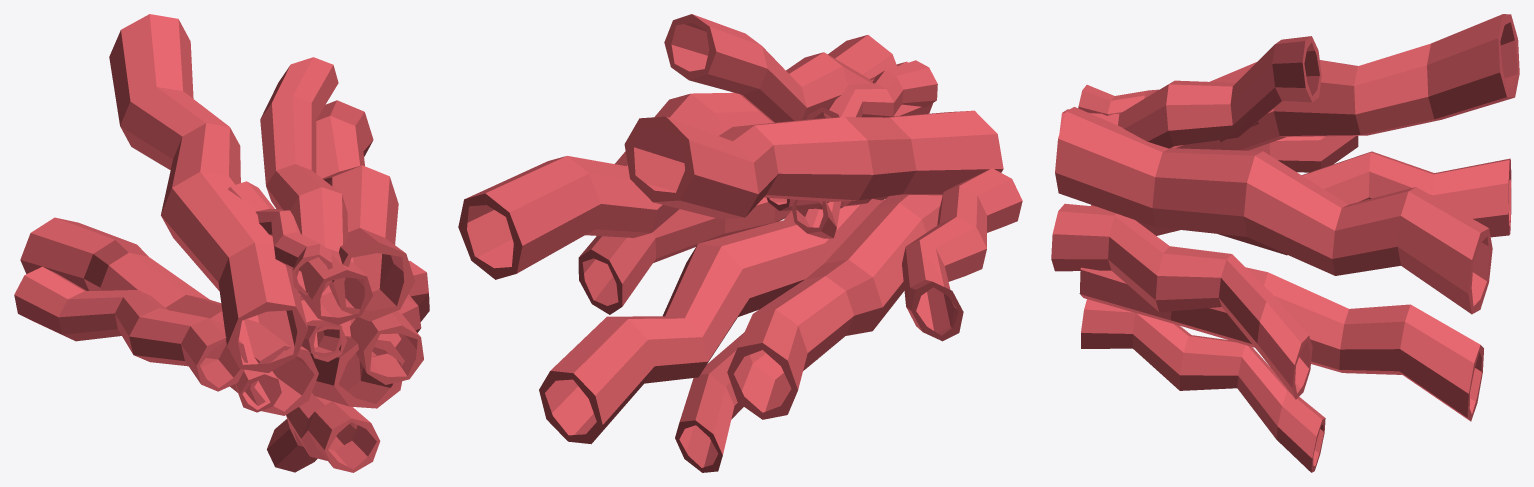
File: coral 3.fbx
The picture shows the model from 3 angles, left to right: view 1: azimuth 30°, elevation 25°; view 2: azimuth 150°, elevation 25°; view 3: azimuth 270°, elevation 25°; orthographic projection. The views are drawn at different scales.
Parts seen in each view (by area): view 1: coral; view 2: coral; view 3: coral.
Part boxes in pixels (x1,y1,x2,y2): coral: [14, 14, 429, 472]; coral: [458, 14, 1022, 472]; coral: [1051, 14, 1519, 472].
Bounding box in the file's own units: 22675 × 21842 × 21198.
